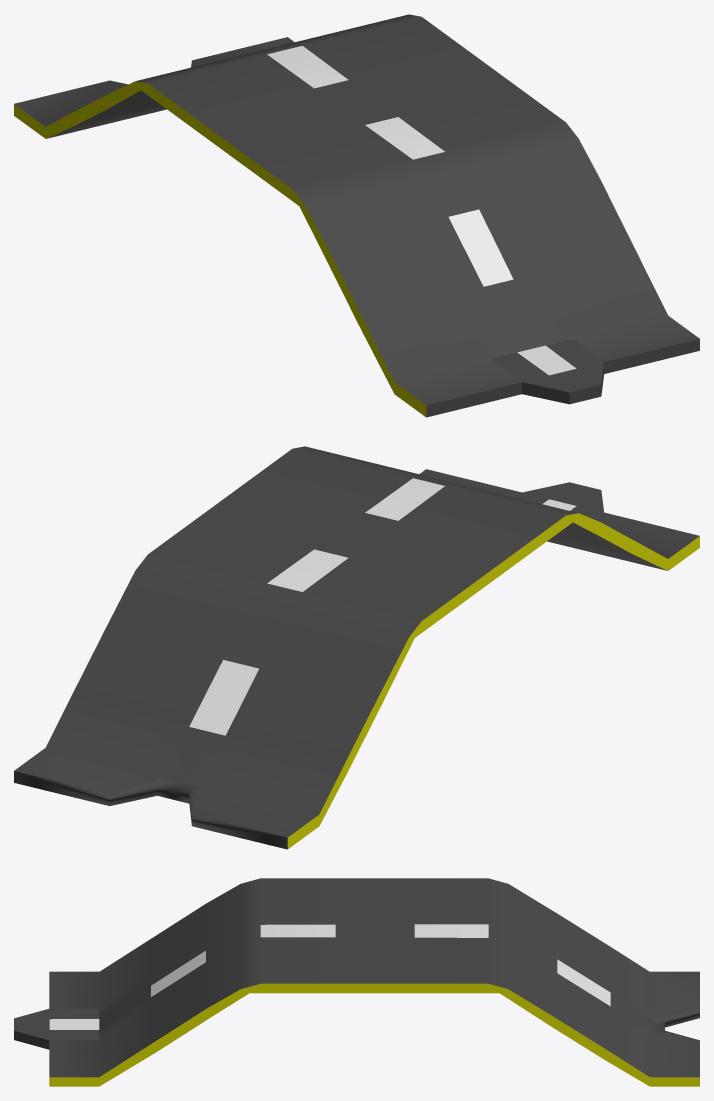
Rendered from Bridge Piece.fbx.
The picture shows the model from 3 angles, top to bottom: view 1: azimuth 30°, elevation 25°; view 2: azimuth 150°, elevation 25°; view 3: azimuth 270°, elevation 25°; orthographic projection. The views are drawn at different scales.
Visible parts, largest first — view 1: bridge_piece3; view 2: bridge_piece3; view 3: bridge_piece3.
Boxes of the visible parts, left/top/right/bottom form: bridge_piece3: left=14, top=14, right=699, bottom=417; bridge_piece3: left=14, top=446, right=699, bottom=849; bridge_piece3: left=14, top=878, right=699, bottom=1086.
Size of the model in its own units: 8.53 by 3.88 by 23.45.
